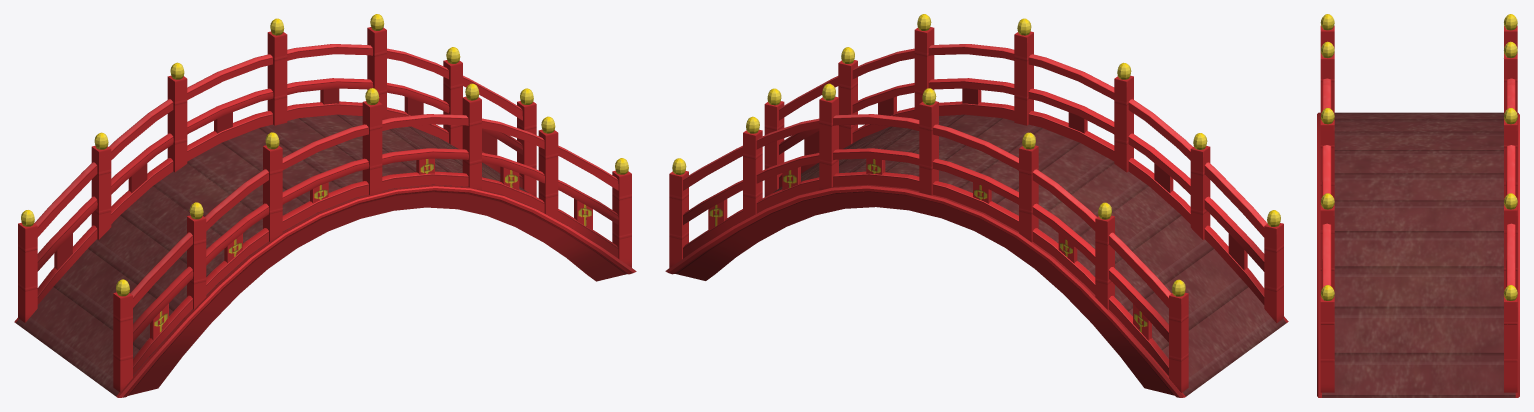
File: japanese_bridge.fbx
The picture shows the model from 3 angles, left to right: view 1: azimuth 30°, elevation 25°; view 2: azimuth 150°, elevation 25°; view 3: azimuth 270°, elevation 25°; orthographic projection. The views are drawn at different scales.
Parts seen in each view (by area): view 1: bridge1; view 2: bridge1; view 3: bridge1.
Boxes of the visible parts, <box> form: bridge1: <box>14,14,636,397</box>; bridge1: <box>665,14,1288,397</box>; bridge1: <box>1317,14,1519,397</box>.
Bounding box in the file's own units: 11.92 × 5.34 × 4.19.
